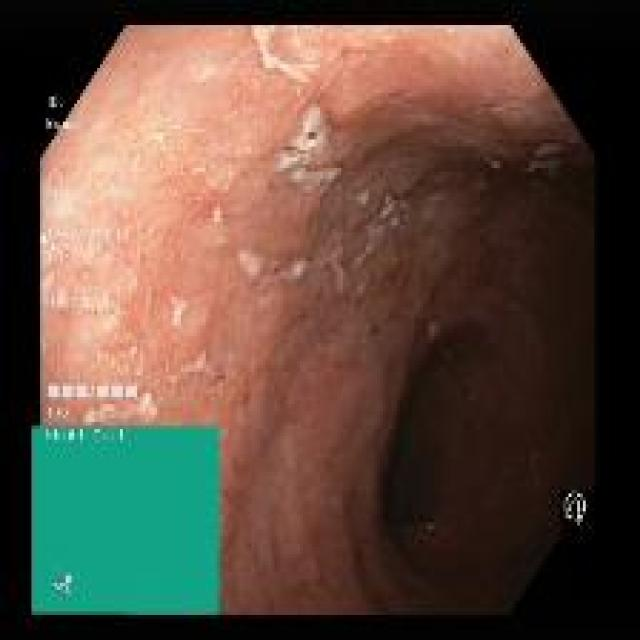ulcerative-colitis: (42, 27, 594, 615)
